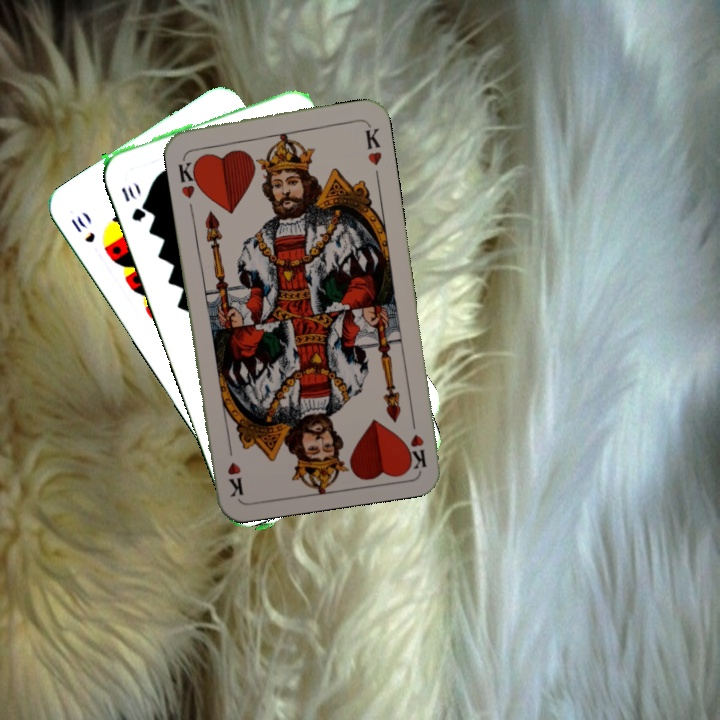G10: (117, 181, 148, 225)
HK: (402, 410, 429, 471), (174, 151, 204, 201)
S10: (66, 211, 98, 246)
